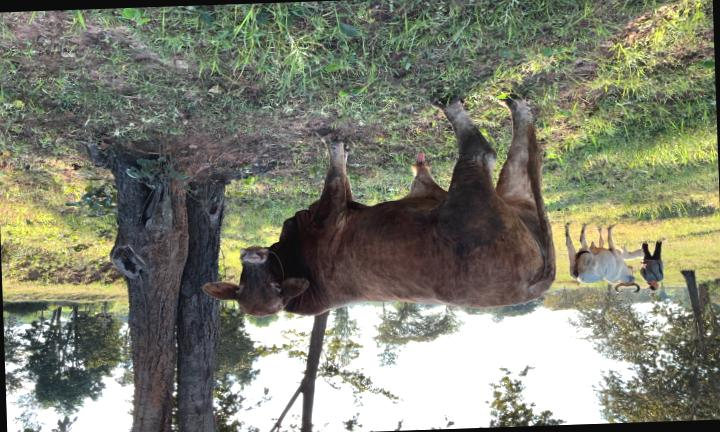Charolais: (203, 99, 555, 316)
